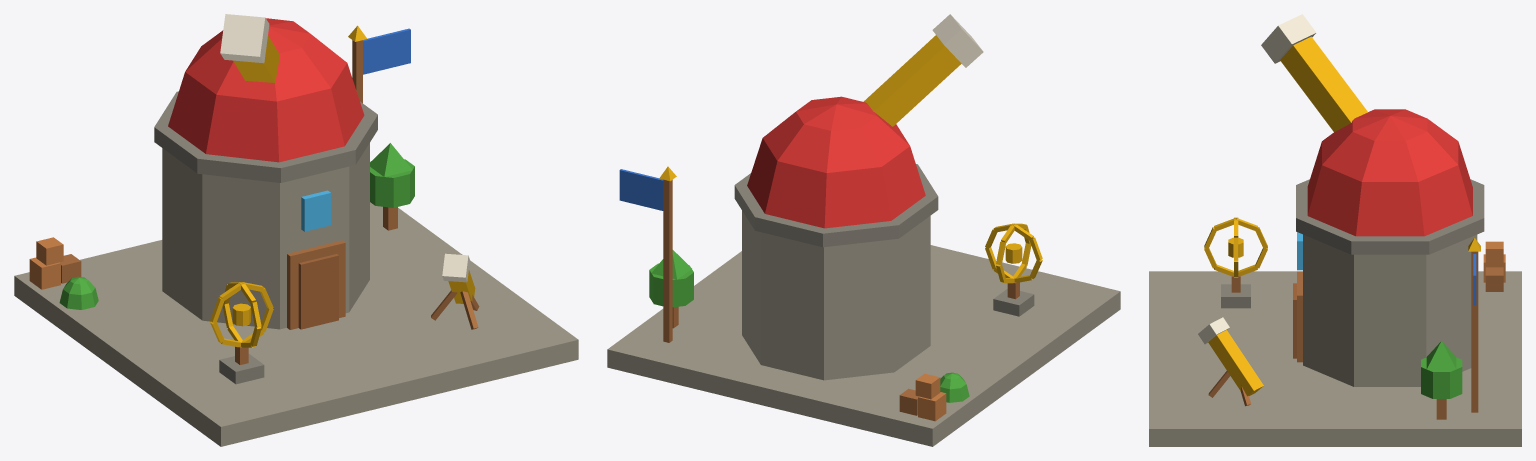
File: observatory_t2_v3.glb
3 renders of one model, left to right at view 1: azimuth 30°, elevation 25°; view 2: azimuth 150°, elevation 25°; view 3: azimuth 270°, elevation 25°, orthographic. The views are drawn at different scales.
Visible parts, largest first — view 1: observatory_t2_v3; view 2: observatory_t2_v3; view 3: observatory_t2_v3.
Part boxes in pixels (bbox=[...]): observatory_t2_v3: bbox=[14, 14, 578, 446]; observatory_t2_v3: bbox=[607, 14, 1120, 446]; observatory_t2_v3: bbox=[1149, 14, 1521, 446].
Bounding box in the file's own units: 0.775 × 0.6989 × 0.75.
1 material, 1 textured.
